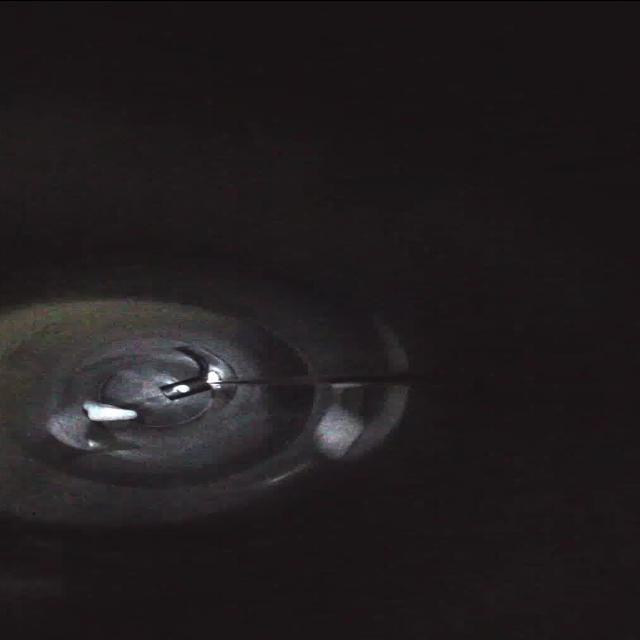impurity: (73, 394, 139, 426)
